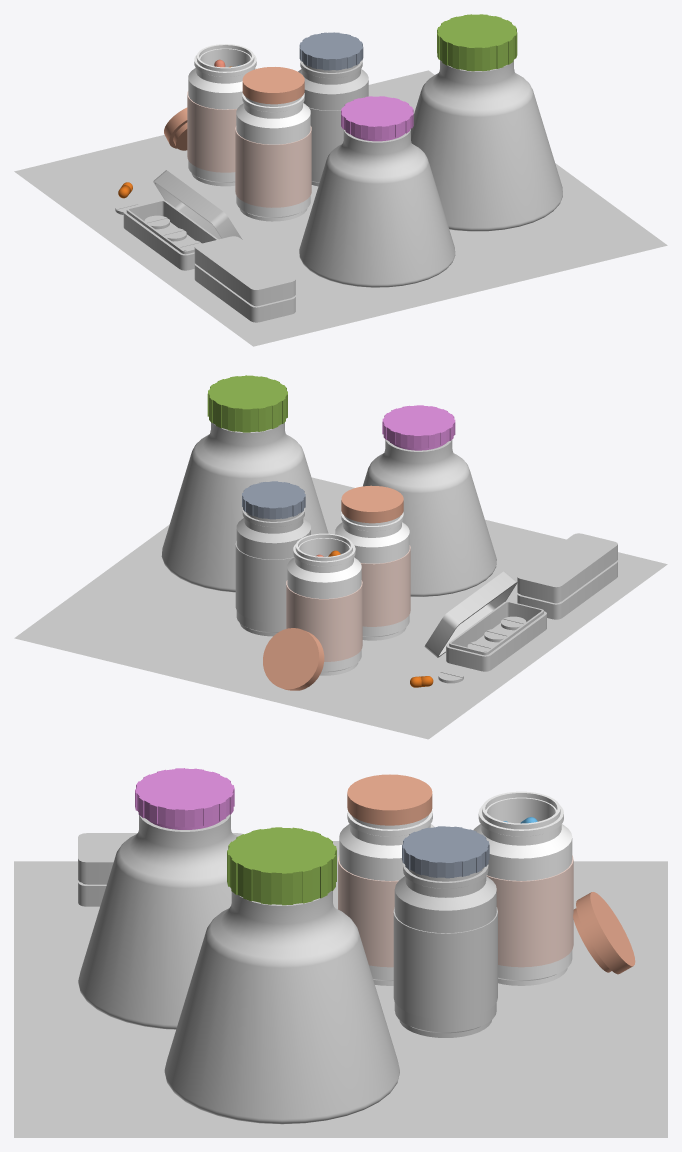
Rendered from BottlesANDCaps.fbx.
3 renders of one model, top to bottom at view 1: azimuth 30°, elevation 25°; view 2: azimuth 150°, elevation 25°; view 3: azimuth 270°, elevation 25°, orthographic. The views are drawn at different scales.
Parts seen in each view (by area): view 1: Plane, LargeFlask, SmallFlask, Bottle, BOTTLE.002, PillCaseLid, BOTTLE.001, CAP.004, Cube.003, CapFlask, Cube.002, RidgedCap (+3 smaller); view 2: Plane, LargeFlask, SmallFlask, BOTTLE.002, BOTTLE.001, Bottle, PillCaseLid, CAP.004, Cube.003, CAP.002, CapFlask, Cube.002 (+3 smaller); view 3: Plane, LargeFlask, SmallFlask, BOTTLE.001, BOTTLE.002, Bottle, CAP.004, CapFlask, RidgedCap, SmoothCap, CAP.002, PillCaseLid (+1 smaller).
Boxes of the visible parts, x1,y1,x2,y2 form: Plane: (14, 70, 667, 346); LargeFlask: (411, 60, 562, 231); SmallFlask: (299, 129, 455, 287); Bottle: (235, 93, 311, 221); BOTTLE.002: (187, 44, 256, 186); PillCaseLid: (194, 236, 295, 305); BOTTLE.001: (298, 60, 369, 186); CAP.004: (437, 14, 517, 71); Cube.003: (123, 200, 218, 270); CapFlask: (341, 96, 413, 141); Cube.002: (153, 170, 242, 239); RidgedCap: (299, 32, 363, 70); Plane: (14, 477, 667, 739); LargeFlask: (161, 422, 328, 592); SmallFlask: (363, 439, 496, 596); BOTTLE.002: (286, 533, 362, 675); BOTTLE.001: (235, 508, 310, 636); Bottle: (335, 512, 410, 640); PillCaseLid: (517, 533, 617, 602); CAP.004: (207, 375, 287, 432); Cube.003: (446, 601, 546, 671); CAP.002: (263, 628, 324, 690); CapFlask: (382, 405, 455, 450); Cube.002: (424, 571, 517, 657); Plane: (14, 861, 667, 1137); LargeFlask: (164, 891, 399, 1124); SmallFlask: (78, 814, 237, 1029); BOTTLE.001: (393, 863, 497, 1037); BOTTLE.002: (473, 791, 573, 985); Bottle: (338, 810, 434, 985); CAP.004: (227, 827, 336, 905); CapFlask: (135, 768, 234, 829); RidgedCap: (402, 826, 489, 878); SmoothCap: (347, 774, 432, 825); CAP.002: (573, 892, 635, 974); PillCaseLid: (78, 833, 242, 883).
Size of the model in its own units: 13.48 by 5.2 by 13.48.
